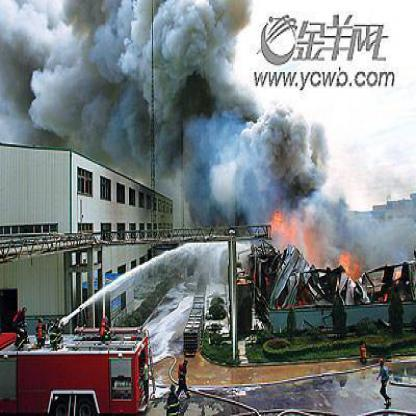smoke: (0, 0, 239, 144), (239, 92, 333, 206)
